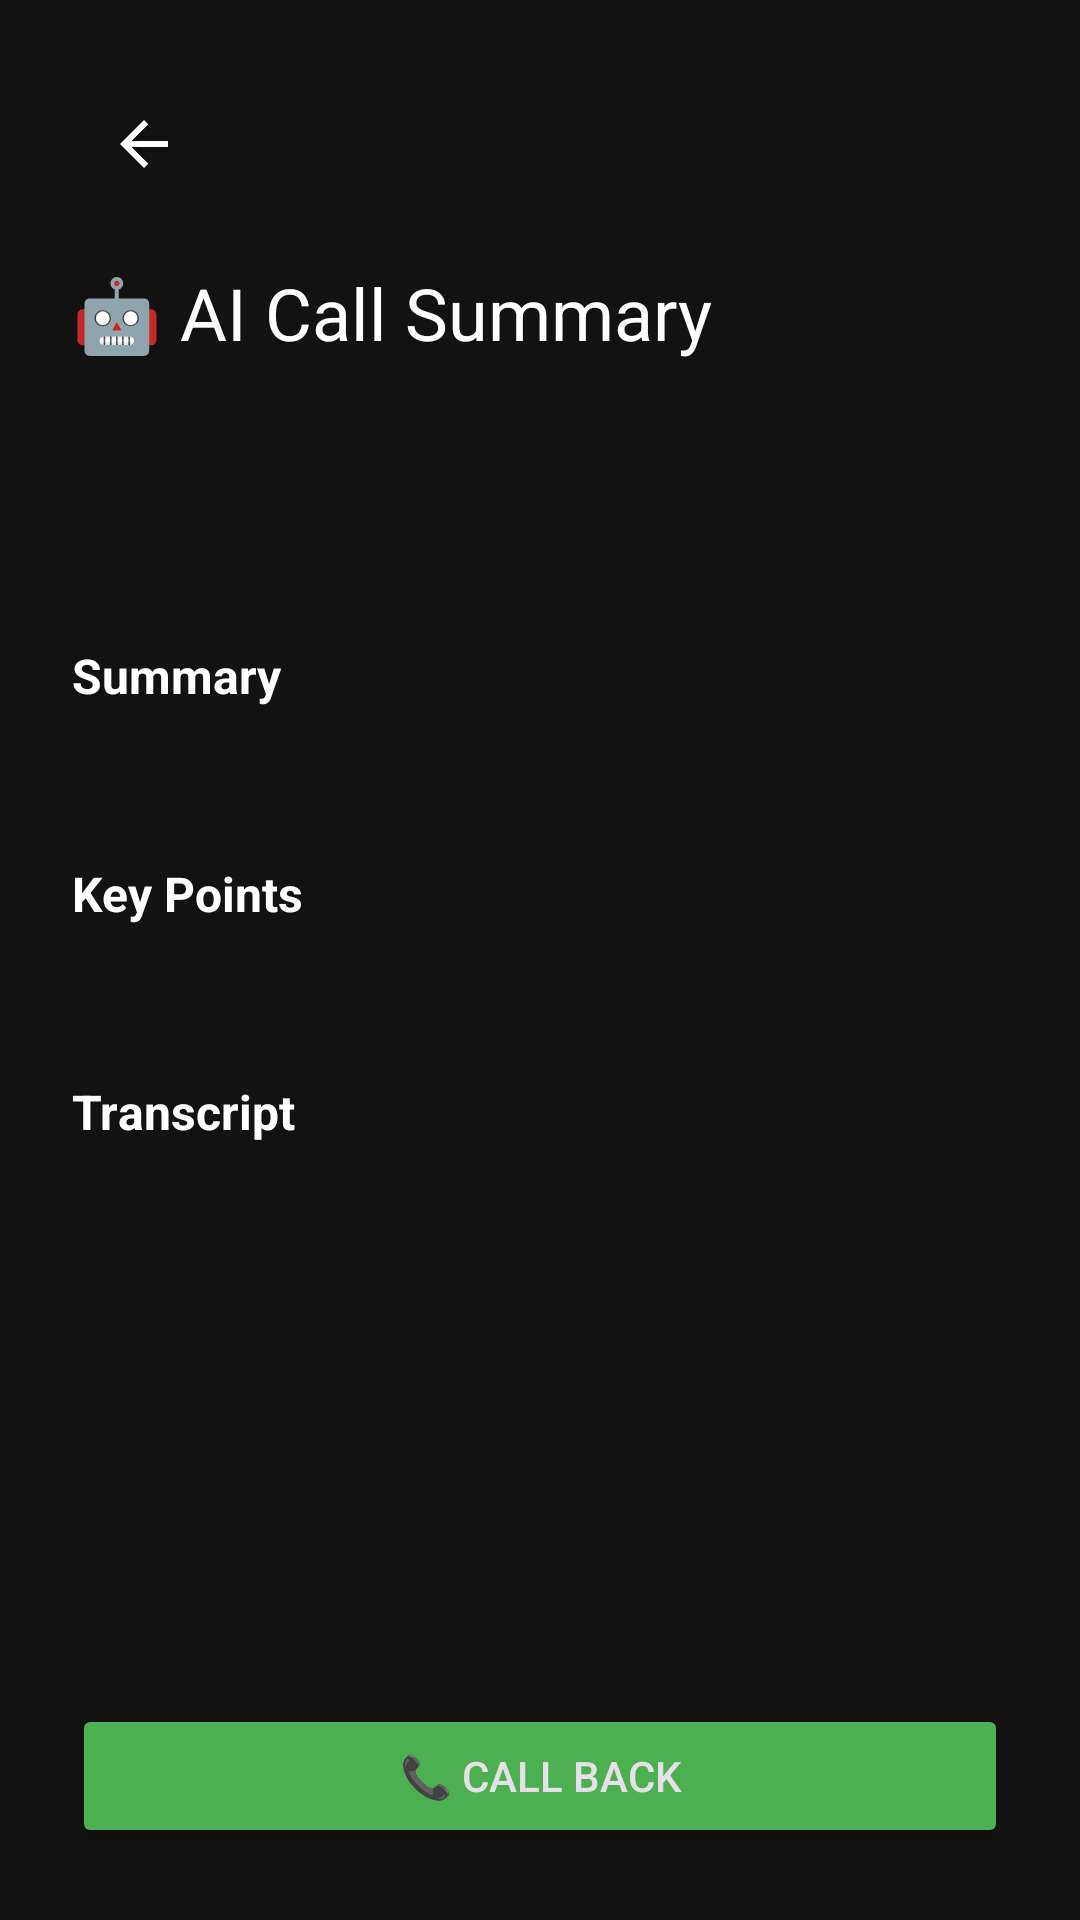

Locate icon controls on the screen. Image size 1080px×1920px, boxes as (x1, y1, x2, y2).
back: (120, 120, 168, 168)
